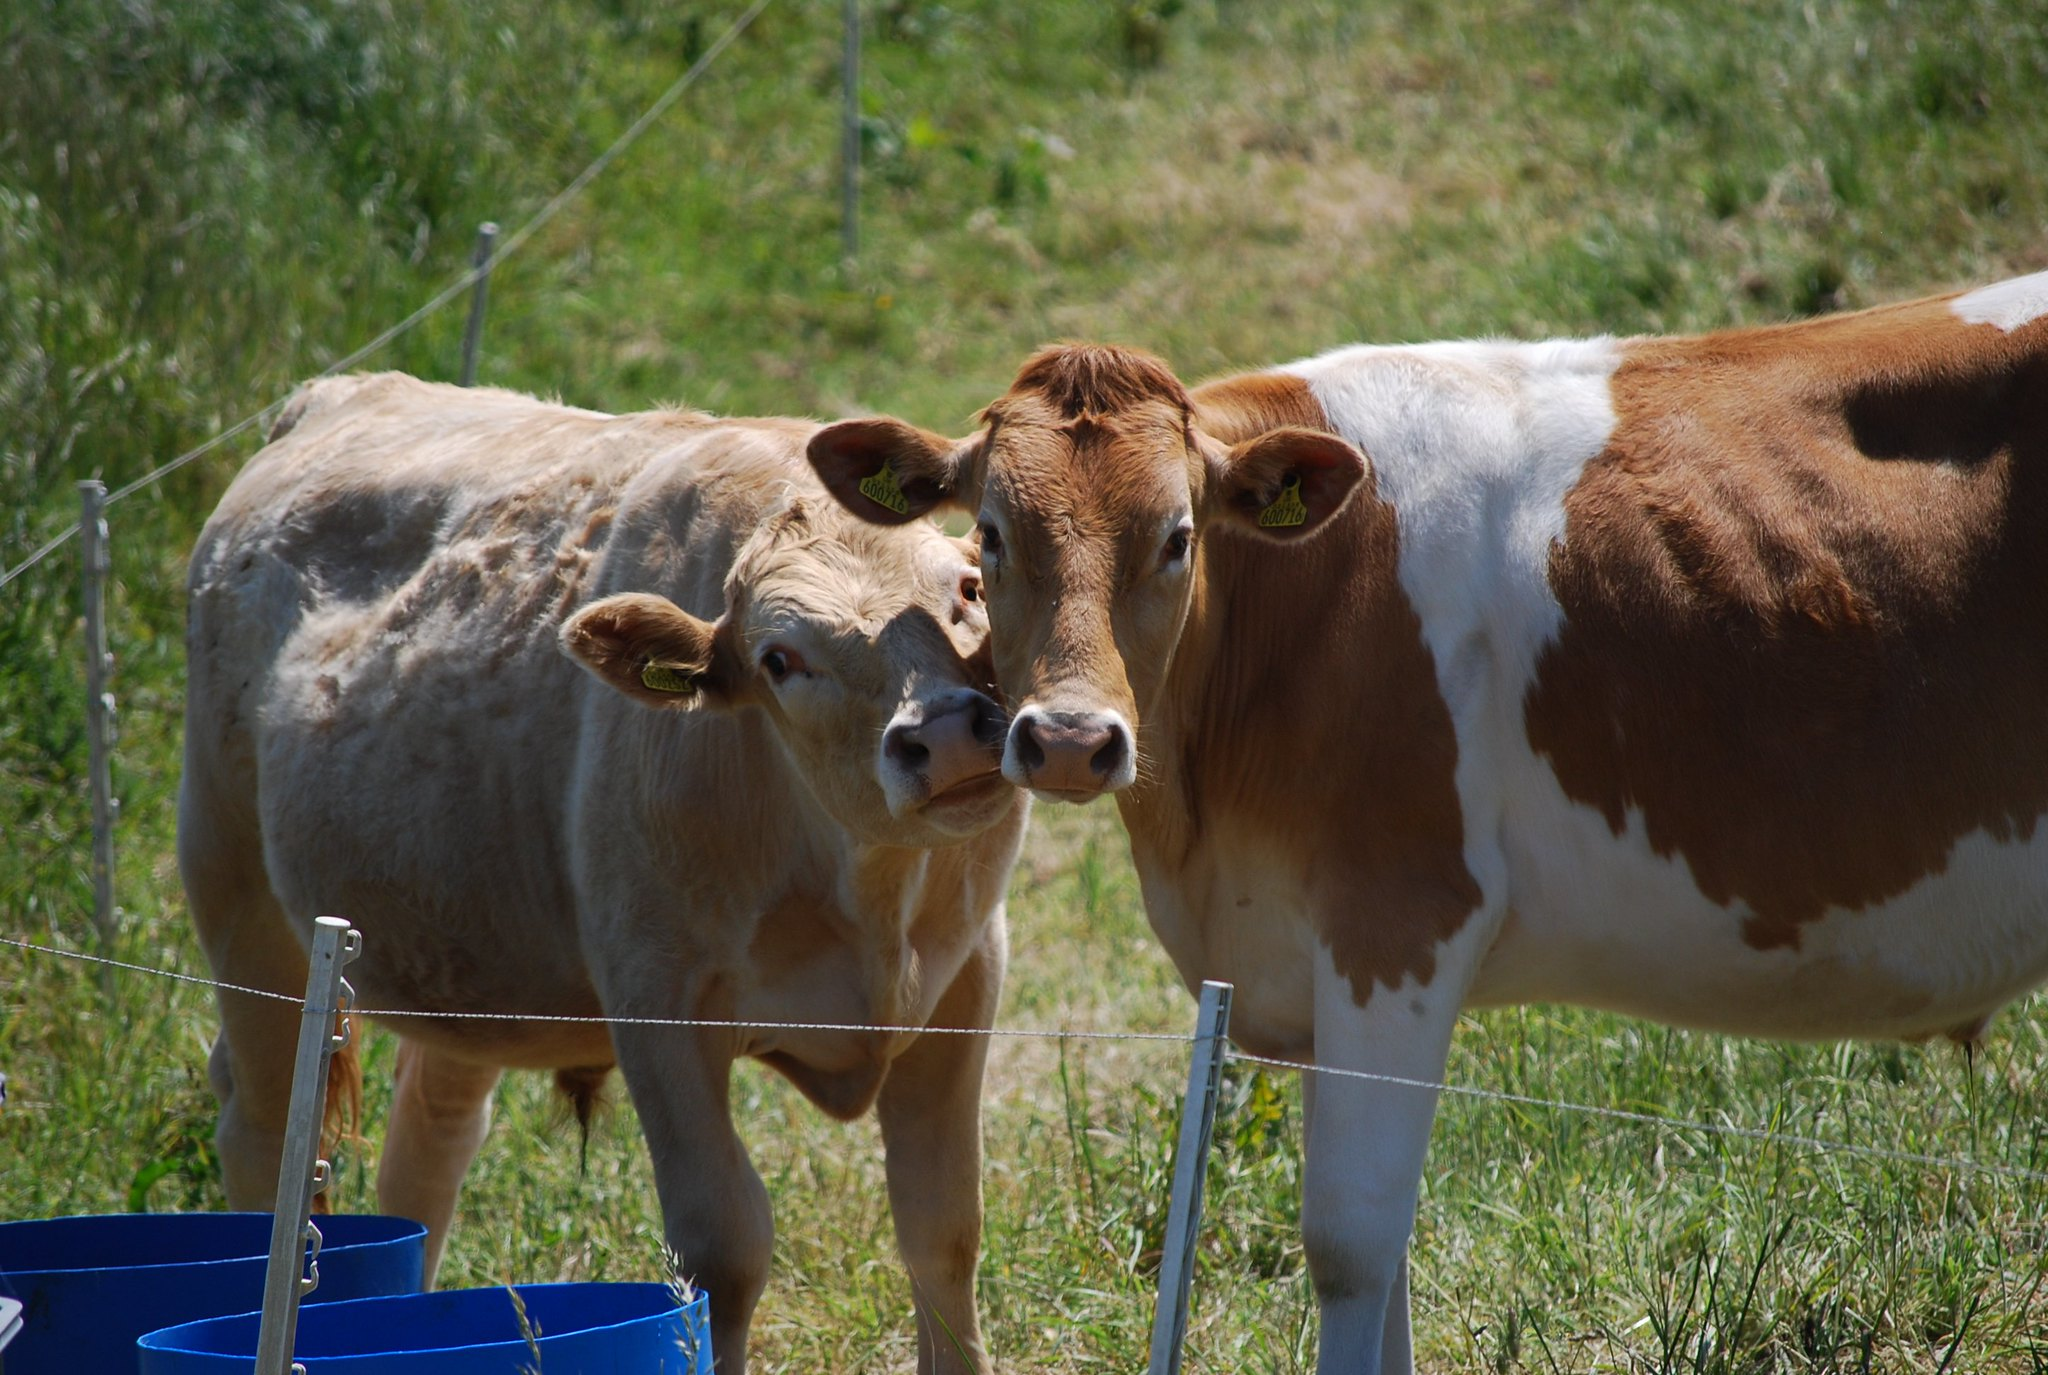cow: (848, 341, 2048, 1294), (189, 341, 1074, 1373)
